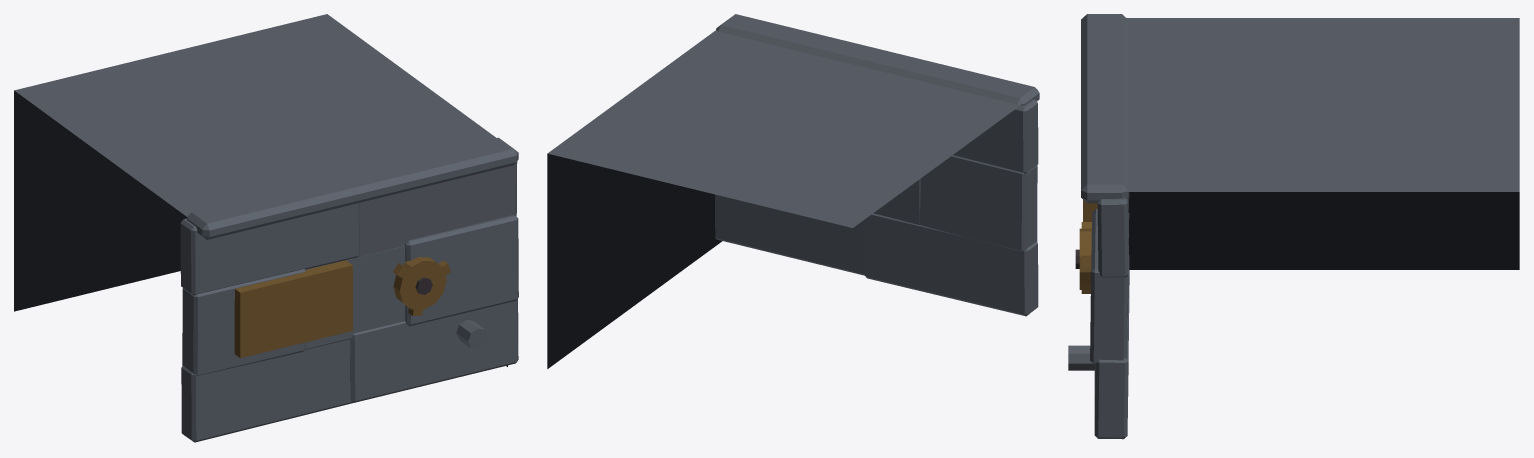
The model's file is SM_Terrain_Dvergr_08_Cliff.fbx.
3 views of the same model, side by side, from view 1: azimuth 30°, elevation 25°; view 2: azimuth 150°, elevation 25°; view 3: azimuth 270°, elevation 25° (orthographic). The views are drawn at different scales.
Parts seen in each view (by area): view 1: SM_Terrain_Dvergr_08_Cliff_Deck, SM_Terrain_Dvergr_08_Cliff_Plate00, SM_Terrain_Dvergr_08_Cliff_Plate01, SM_Terrain_Dvergr_08_Cliff_Lip, SM_Terrain_Dvergr_08_Cliff_Plate20, SM_Terrain_Dvergr_08_Cliff_Brass, SM_Terrain_Dvergr_08_Cliff_Plate21, SM_Terrain_Dvergr_08_Cliff_Plate12, SM_Terrain_Dvergr_08_Cliff_Plate10, SM_Terrain_Dvergr_08_Cliff_Plate11, SM_Terrain_Dvergr_08_Cliff_Gear, SM_Terrain_Dvergr_08_Cliff_Pipe; view 2: SM_Terrain_Dvergr_08_Cliff_Deck, SM_Terrain_Dvergr_08_Cliff_Plate00, SM_Terrain_Dvergr_08_Cliff_Plate10, SM_Terrain_Dvergr_08_Cliff_Lip, SM_Terrain_Dvergr_08_Cliff_Plate01, SM_Terrain_Dvergr_08_Cliff_Plate20, SM_Terrain_Dvergr_08_Cliff_Plate11; view 3: SM_Terrain_Dvergr_08_Cliff_Deck, SM_Terrain_Dvergr_08_Cliff_Lip, SM_Terrain_Dvergr_08_Cliff_Plate12, SM_Terrain_Dvergr_08_Cliff_Plate01, SM_Terrain_Dvergr_08_Cliff_Plate21, SM_Terrain_Dvergr_08_Cliff_Gear, SM_Terrain_Dvergr_08_Cliff_Pipe.
Part boxes in pixels (x1,y1,x2,y2): SM_Terrain_Dvergr_08_Cliff_Deck: (14, 14, 507, 366); SM_Terrain_Dvergr_08_Cliff_Plate00: (181, 339, 352, 442); SM_Terrain_Dvergr_08_Cliff_Plate01: (350, 299, 518, 402); SM_Terrain_Dvergr_08_Cliff_Lip: (187, 137, 518, 239); SM_Terrain_Dvergr_08_Cliff_Plate20: (180, 203, 360, 295); SM_Terrain_Dvergr_08_Cliff_Brass: (234, 260, 352, 358); SM_Terrain_Dvergr_08_Cliff_Plate21: (353, 161, 517, 258); SM_Terrain_Dvergr_08_Cliff_Plate12: (405, 215, 518, 326); SM_Terrain_Dvergr_08_Cliff_Plate10: (182, 269, 305, 375); SM_Terrain_Dvergr_08_Cliff_Plate11: (305, 246, 405, 349); SM_Terrain_Dvergr_08_Cliff_Gear: (393, 257, 446, 309); SM_Terrain_Dvergr_08_Cliff_Pipe: (456, 320, 488, 349); SM_Terrain_Dvergr_08_Cliff_Deck: (547, 29, 1021, 368); SM_Terrain_Dvergr_08_Cliff_Plate00: (865, 213, 1038, 316); SM_Terrain_Dvergr_08_Cliff_Plate10: (919, 155, 1037, 251); SM_Terrain_Dvergr_08_Cliff_Lip: (716, 14, 1039, 107); SM_Terrain_Dvergr_08_Cliff_Plate01: (715, 194, 865, 275); SM_Terrain_Dvergr_08_Cliff_Plate20: (953, 99, 1038, 173); SM_Terrain_Dvergr_08_Cliff_Plate11: (873, 179, 920, 224); SM_Terrain_Dvergr_08_Cliff_Deck: (1124, 18, 1519, 269); SM_Terrain_Dvergr_08_Cliff_Lip: (1081, 14, 1128, 203); SM_Terrain_Dvergr_08_Cliff_Plate12: (1090, 209, 1129, 364); SM_Terrain_Dvergr_08_Cliff_Plate01: (1094, 275, 1128, 439); SM_Terrain_Dvergr_08_Cliff_Plate21: (1097, 192, 1128, 277); SM_Terrain_Dvergr_08_Cliff_Gear: (1079, 228, 1091, 289); SM_Terrain_Dvergr_08_Cliff_Pipe: (1068, 345, 1095, 370).
Bounding box in the file's own units: 2.08 × 1.38 × 2.19.
